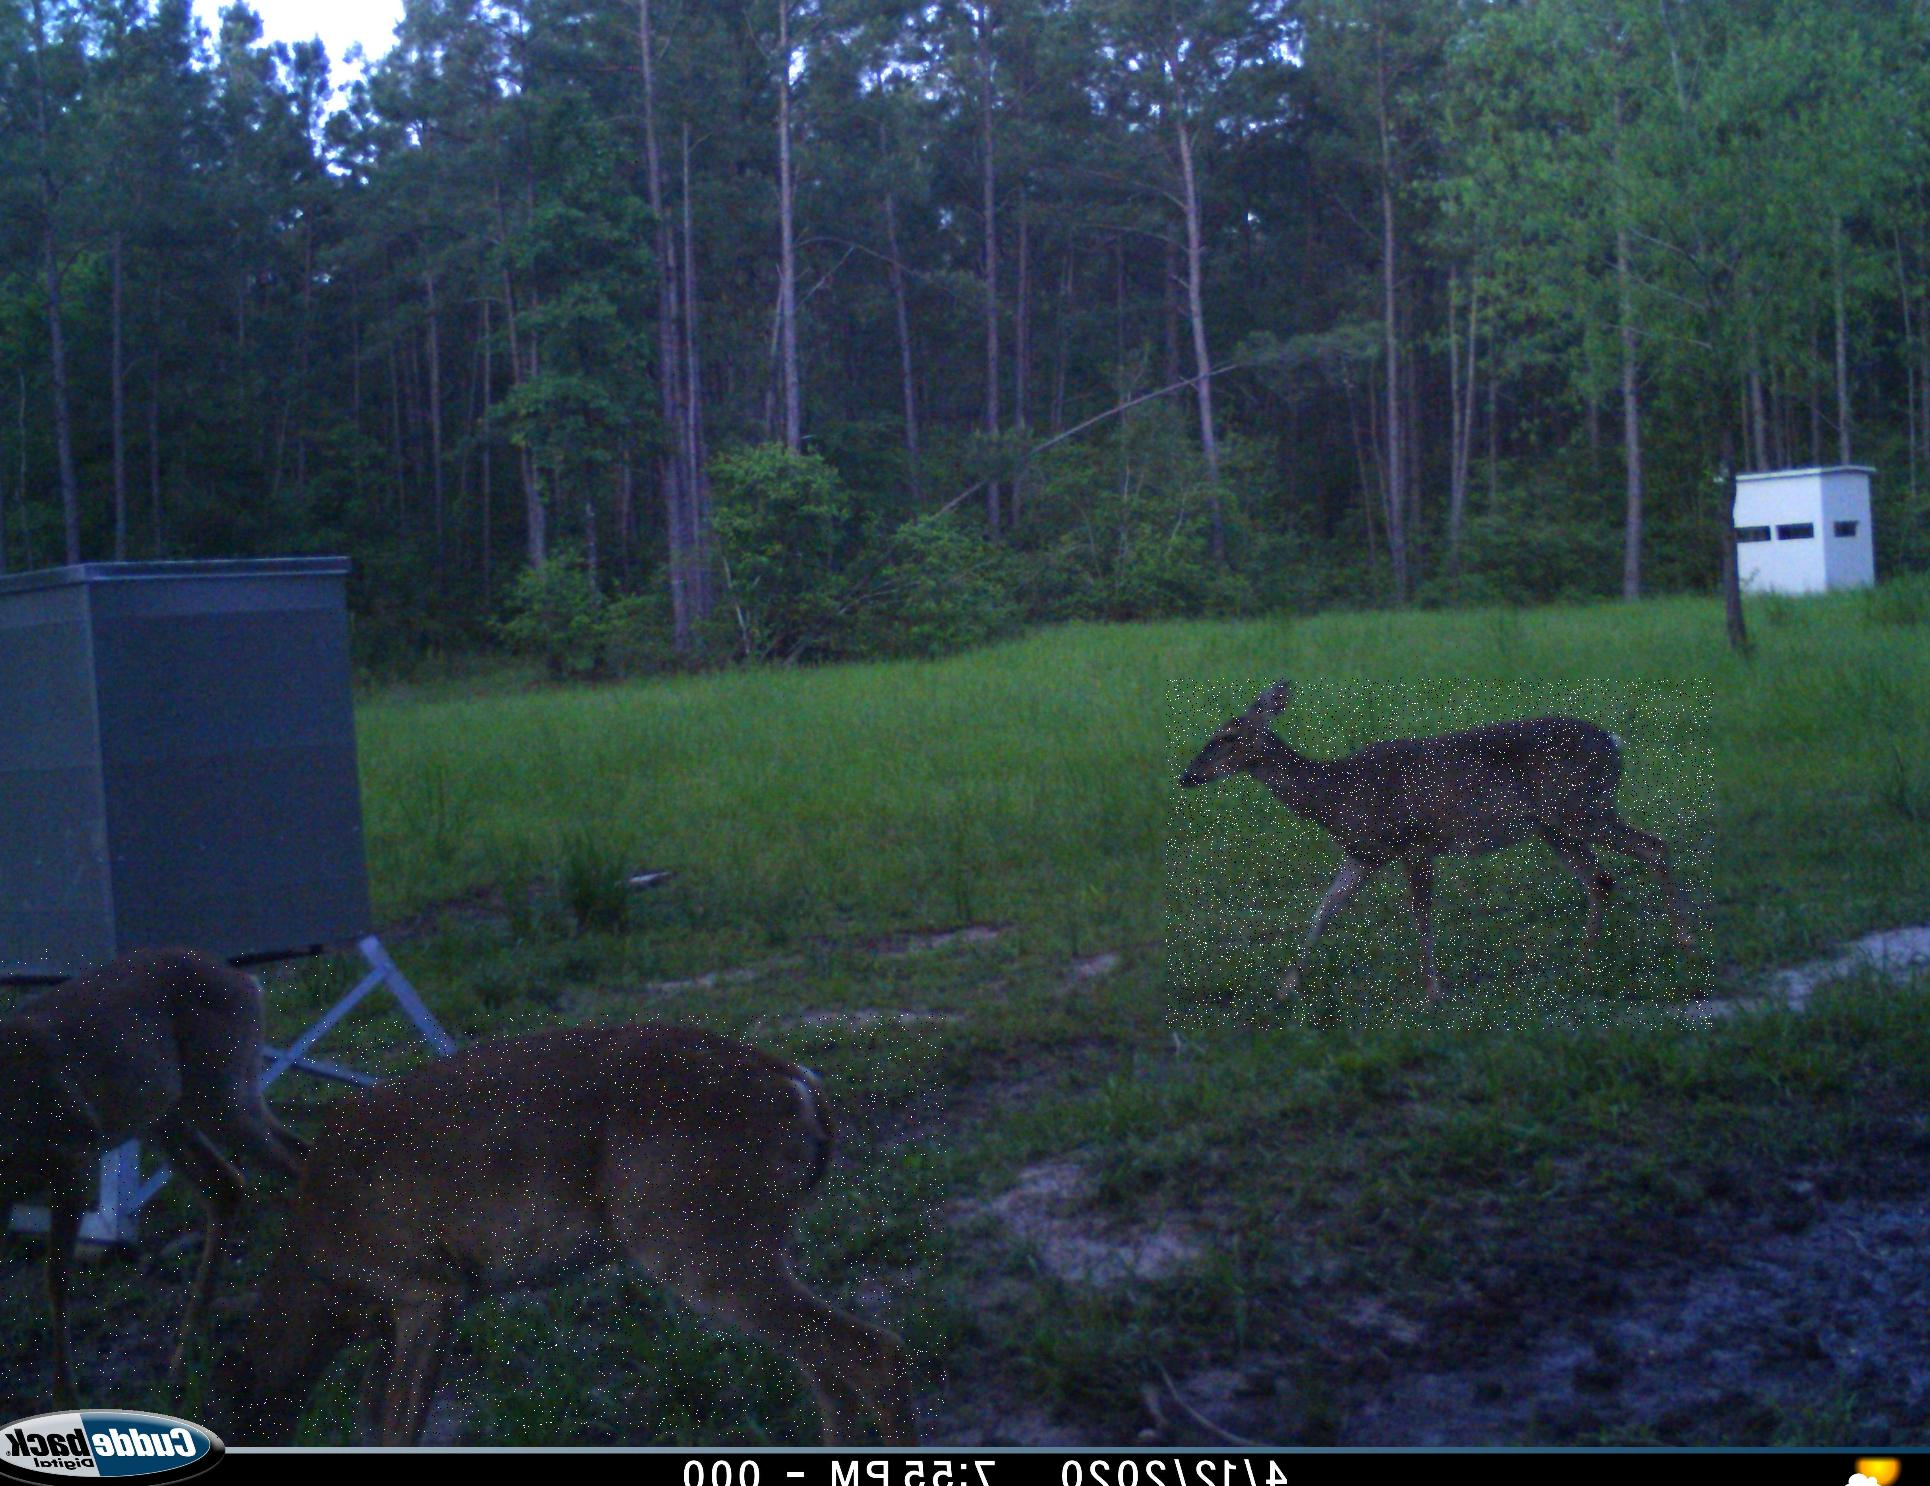Deer: (192, 1015, 945, 1438), (1165, 679, 1715, 1030), (0, 949, 332, 1399)
